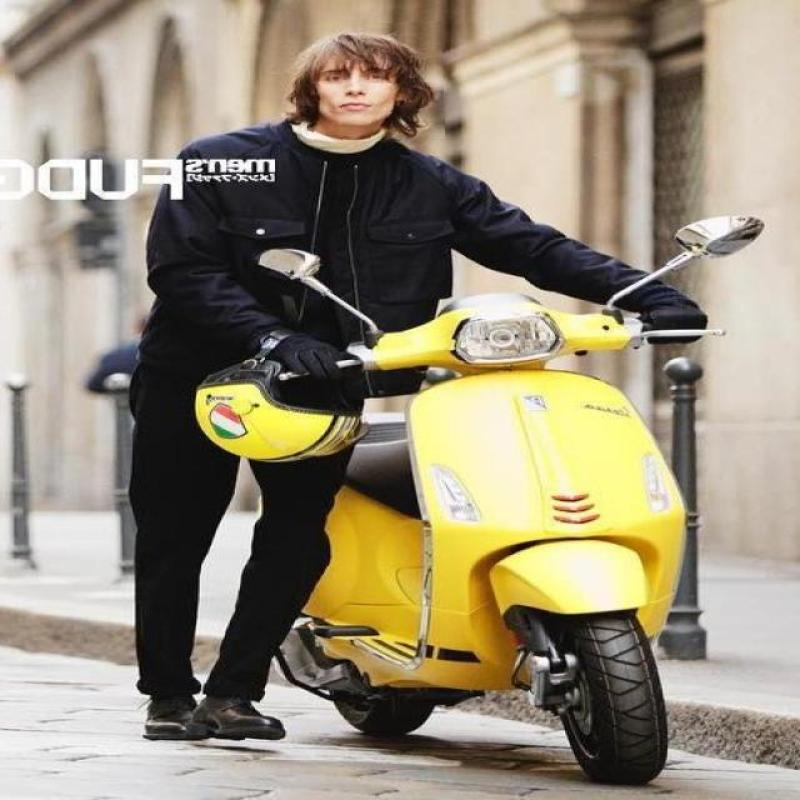nohelmet: (267, 22, 444, 144)
